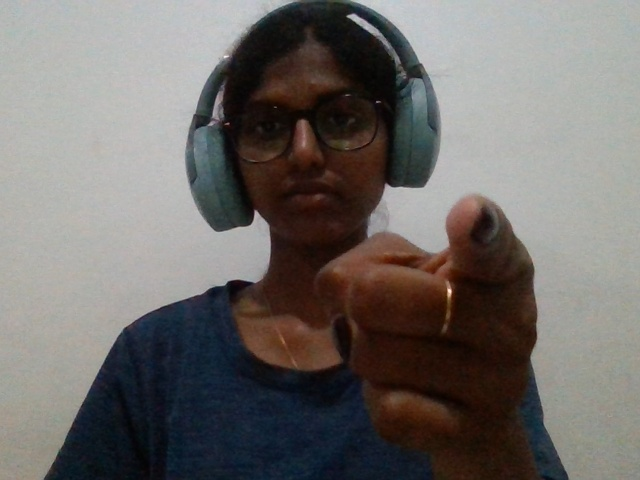You: (288, 159, 588, 480)
